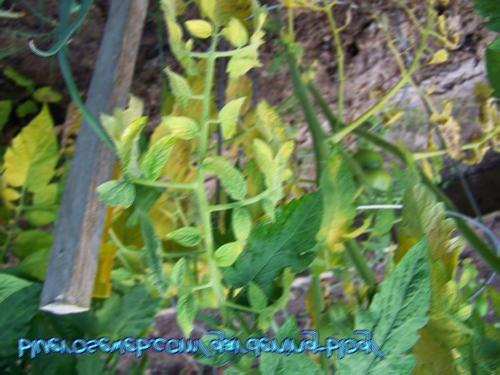Tomato leaf yellow virus: (308, 126, 359, 278), (206, 152, 258, 201), (143, 135, 184, 188), (228, 203, 258, 263), (161, 111, 201, 146)
